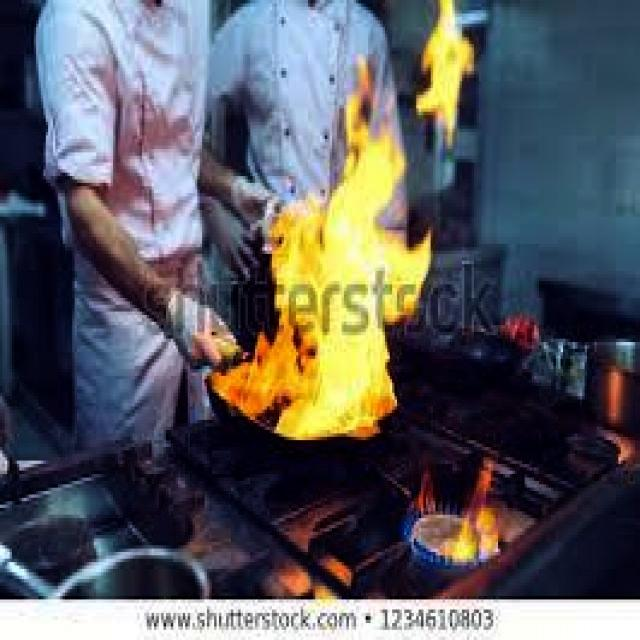fire: (260, 94, 420, 432), (414, 474, 507, 566)
